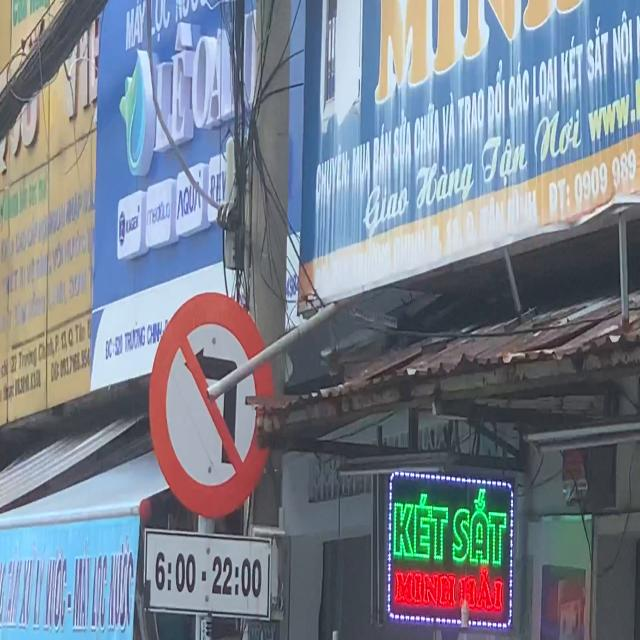Cam re trai: (148, 291, 275, 519)
